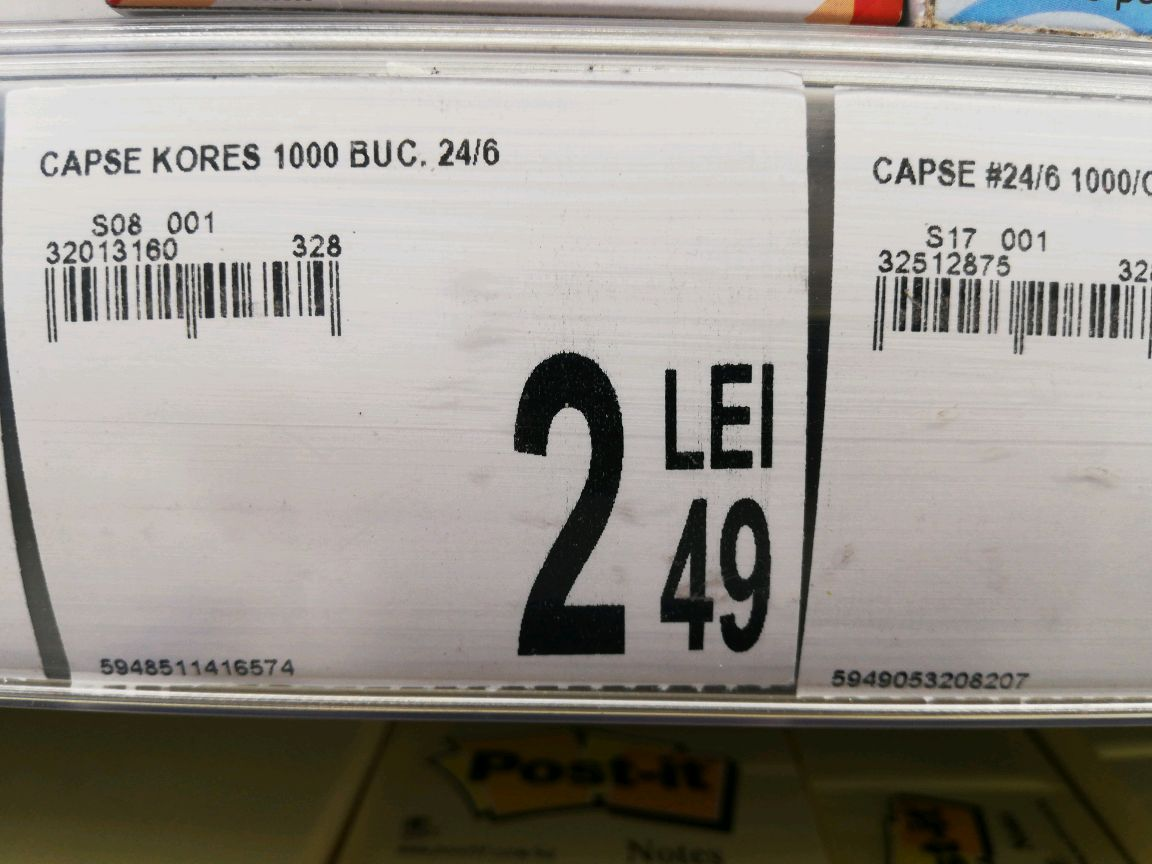price_bani: (646, 493, 781, 662)
price_lei: (497, 348, 639, 663)
price_tag: (5, 56, 816, 697)
product_id: (88, 639, 309, 693)
product_name: (30, 121, 513, 191)
